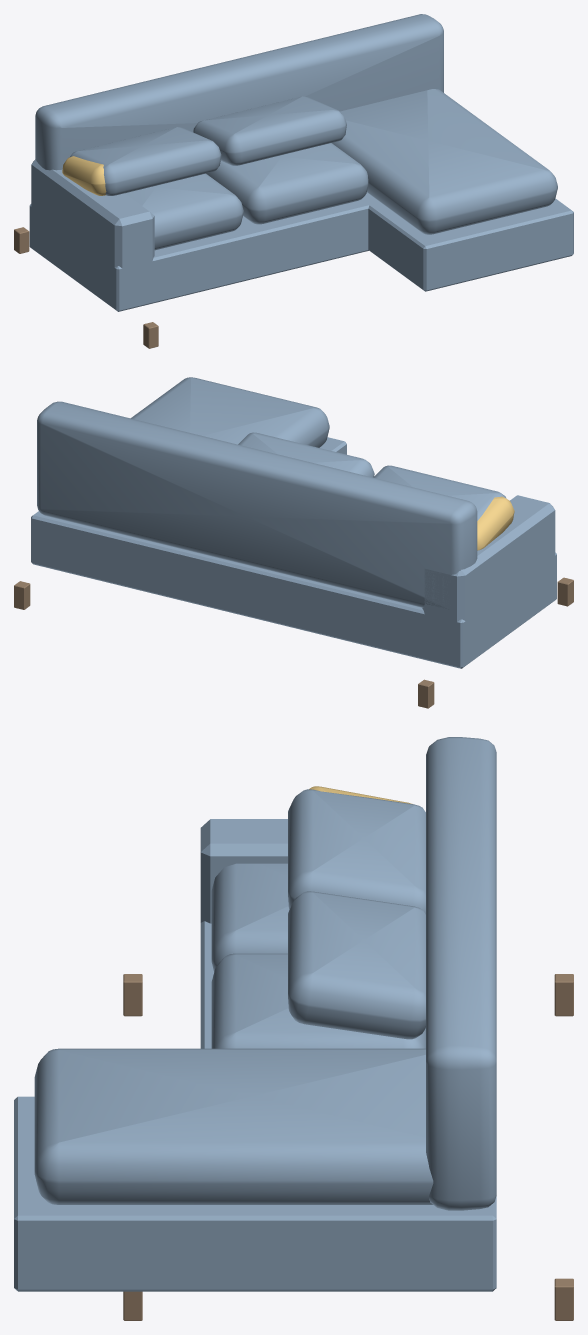
Rendered from sofa-l.glb.
3 renders of one model, top to bottom at view 1: azimuth 30°, elevation 25°; view 2: azimuth 150°, elevation 25°; view 3: azimuth 270°, elevation 25°, orthographic. The views are drawn at different scales.
Visible parts, largest first — view 1: corner-sofa-unit; view 2: corner-sofa-unit; view 3: corner-sofa-unit.
Boxes of the visible parts, left/top/right/bottom form: corner-sofa-unit: left=14, top=14, right=573, bottom=348; corner-sofa-unit: left=14, top=377, right=573, bottom=708; corner-sofa-unit: left=14, top=737, right=573, bottom=1320.
Bounding box in the file's own units: 2.4 × 0.935 × 1.74.
